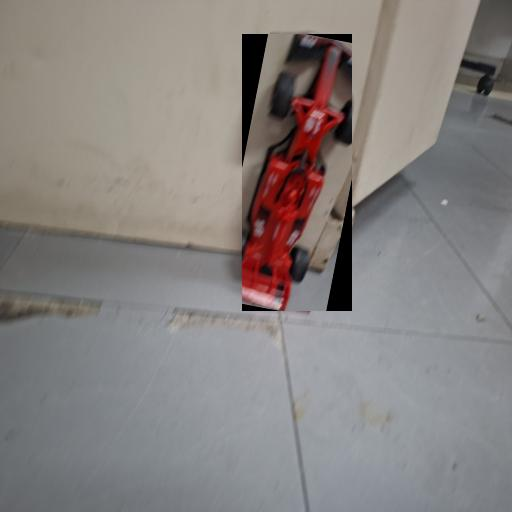carro: (243, 34, 351, 310)
